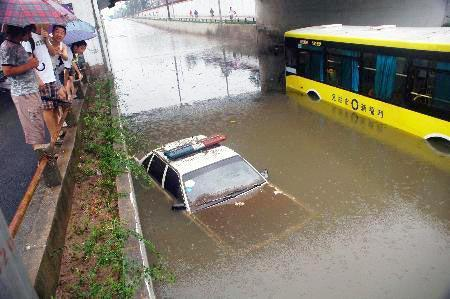water: (104, 19, 448, 297)
